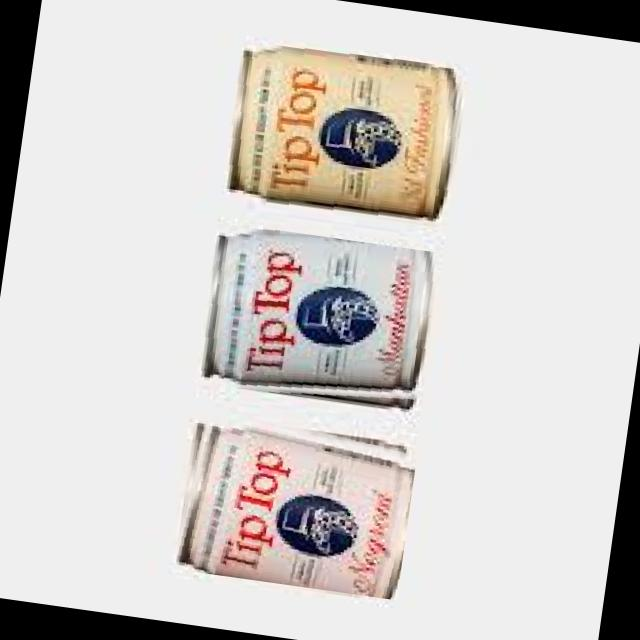Cans: (220, 33, 472, 236), (194, 221, 446, 419), (169, 401, 420, 599)
